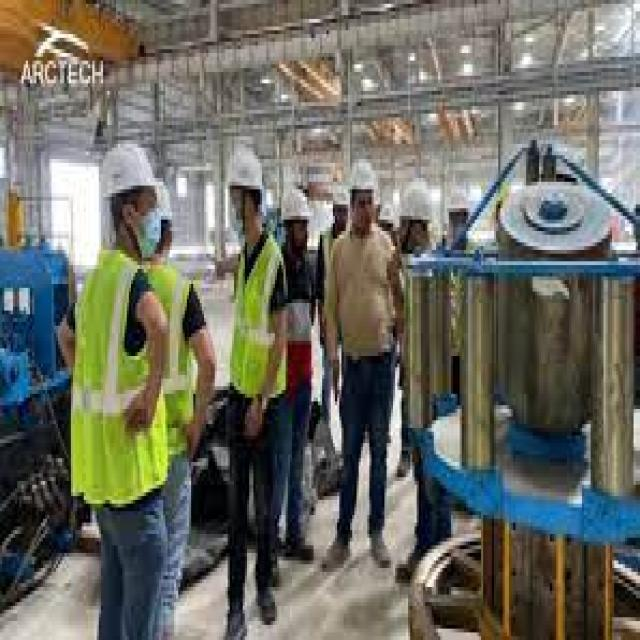Reflective-Jacket: (62, 246, 172, 523), (226, 231, 292, 424)
Safety-Helmet: (92, 133, 164, 208), (222, 136, 268, 201), (397, 170, 434, 228), (344, 152, 380, 200), (279, 182, 314, 227)
